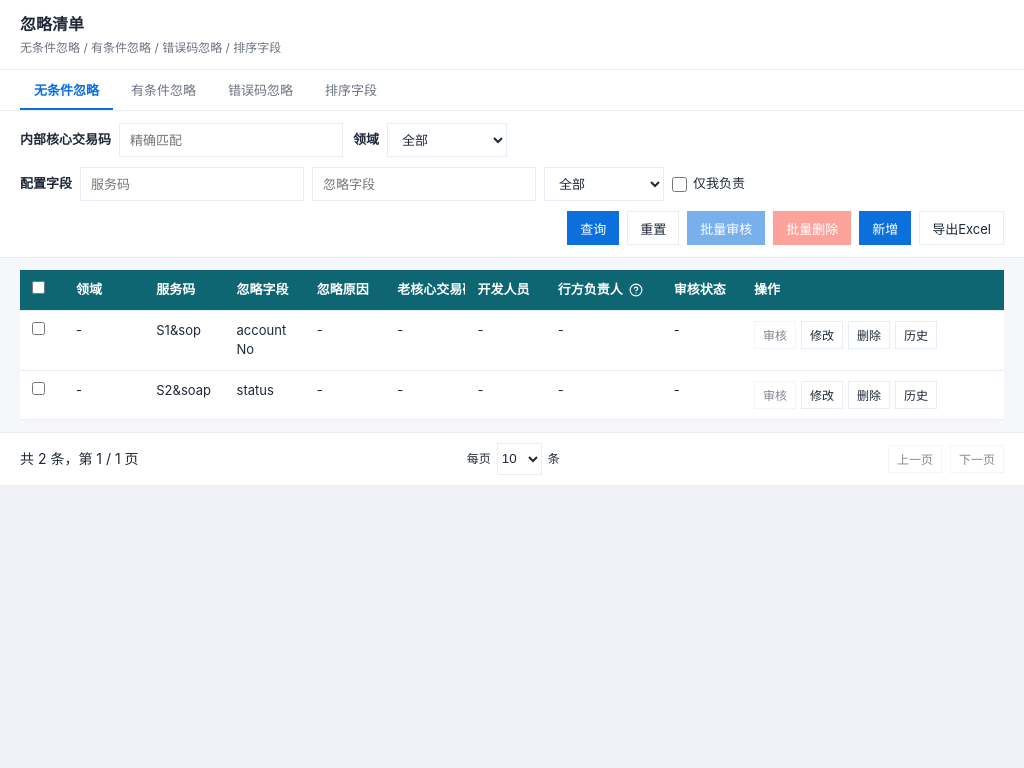
Test: ReplayConfigPage（忽略清单） › creates sort fields from the triple form and reports three rows
Click the tab with test id "tab-sort-fields": (351, 90) [311,70,391,110]
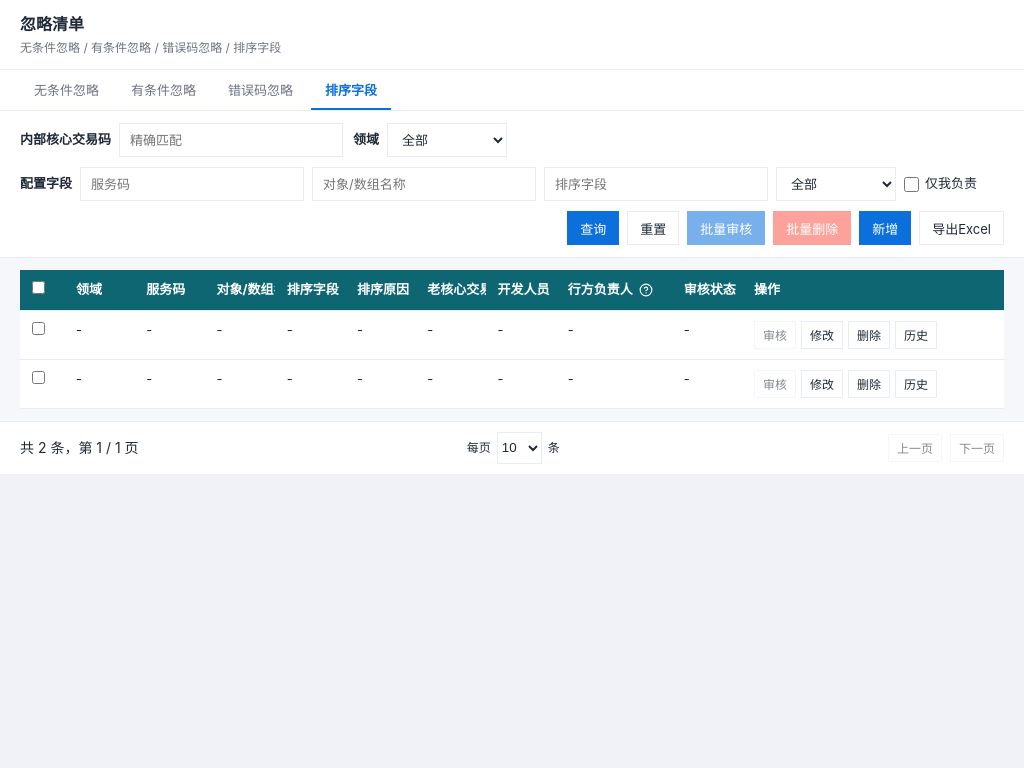
Click the button with test id "create-config": (885, 228) [859,211,911,245]
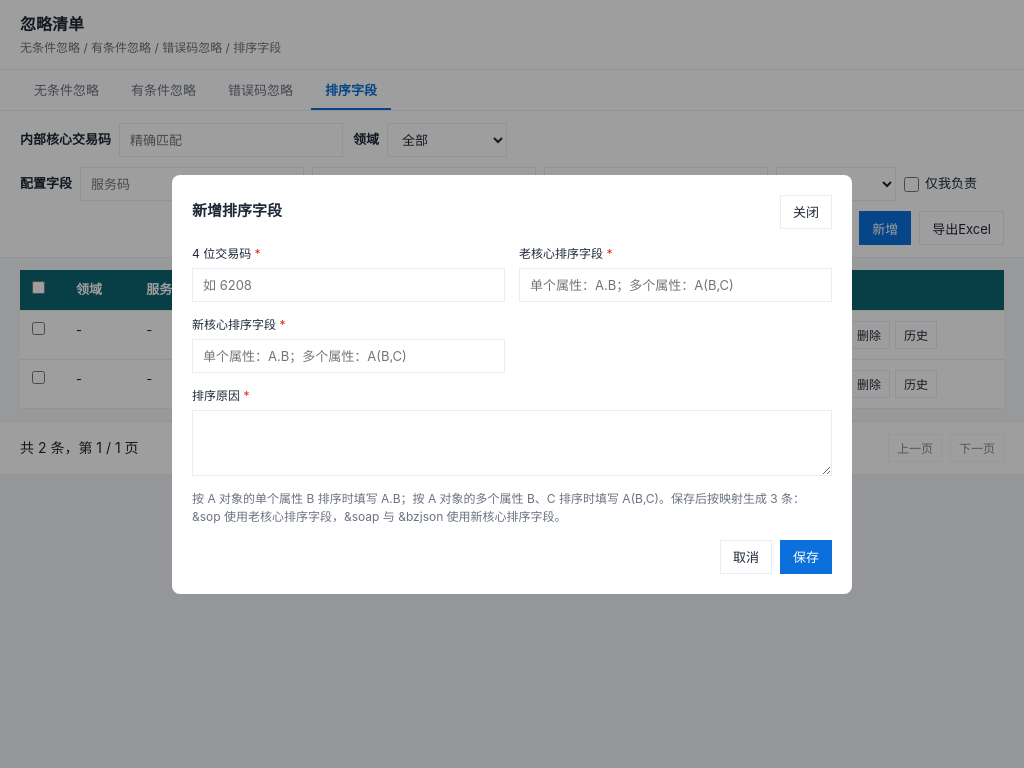
In the field with test id "form-tranCode": (348, 284) [192,268,505,302], type "6208"
In the field with test id "form-oldSortField": (676, 284) [519,268,832,302], type "accounts.accountNo"
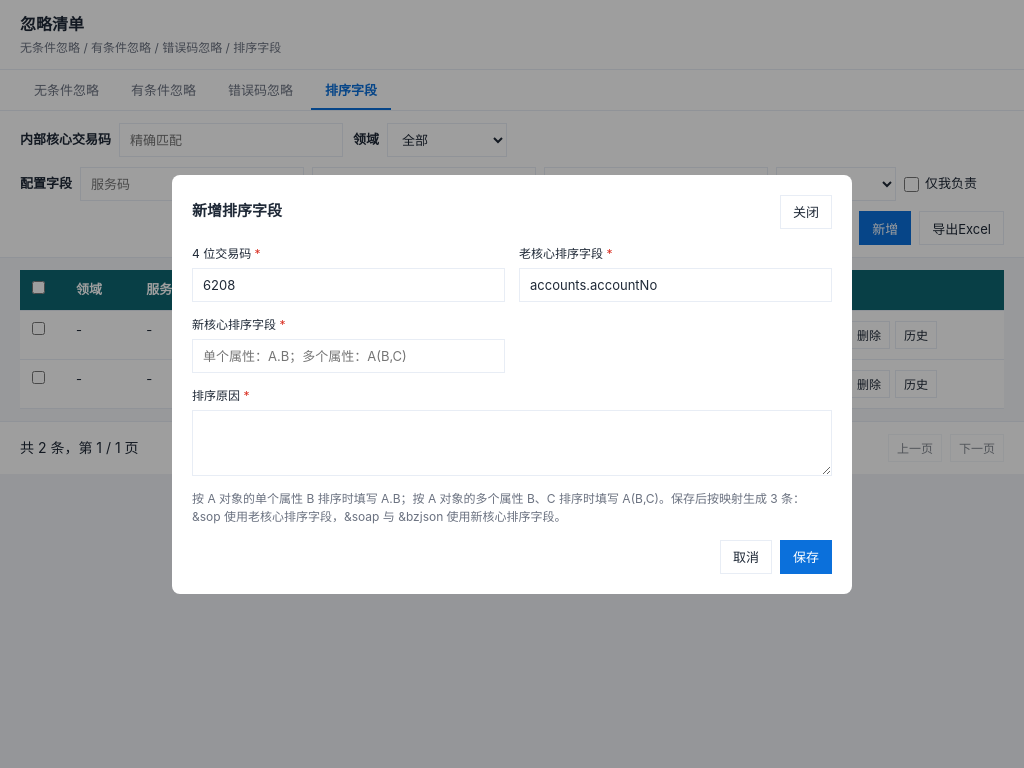
In the field with test id "form-newSortField": (348, 356) [192,338,505,372], type "loans(loanNo,loanType)"
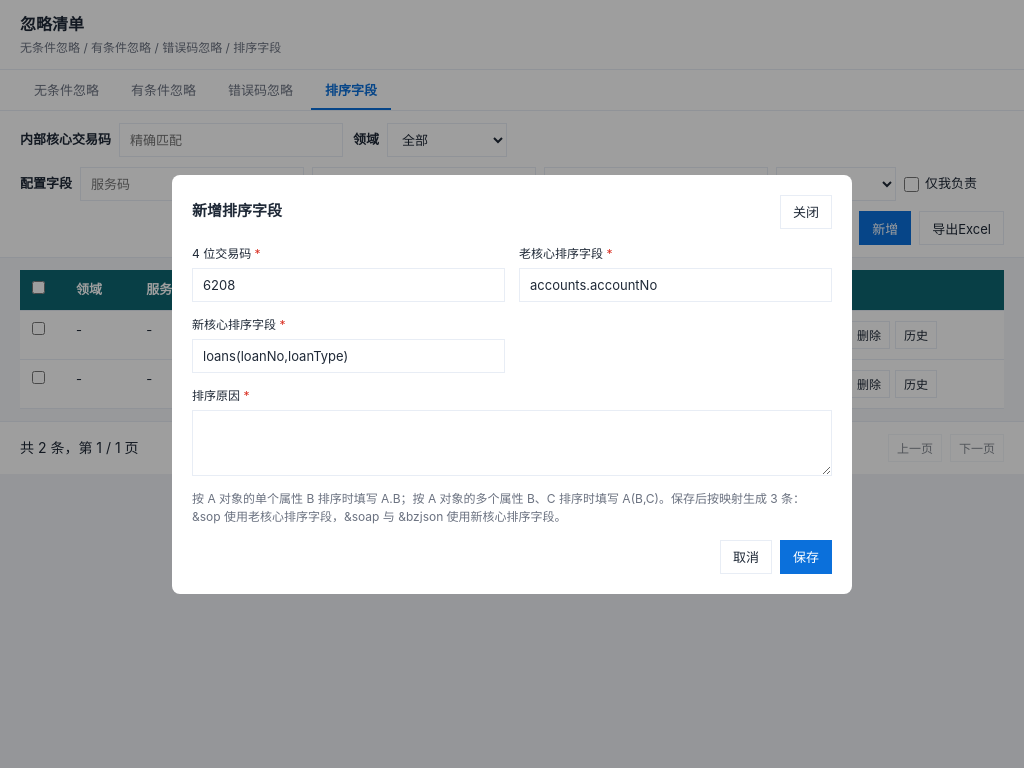
In the text box with test id "form-ignoreReason": (512, 442) [192,410,832,476], type "排序忽略原因"
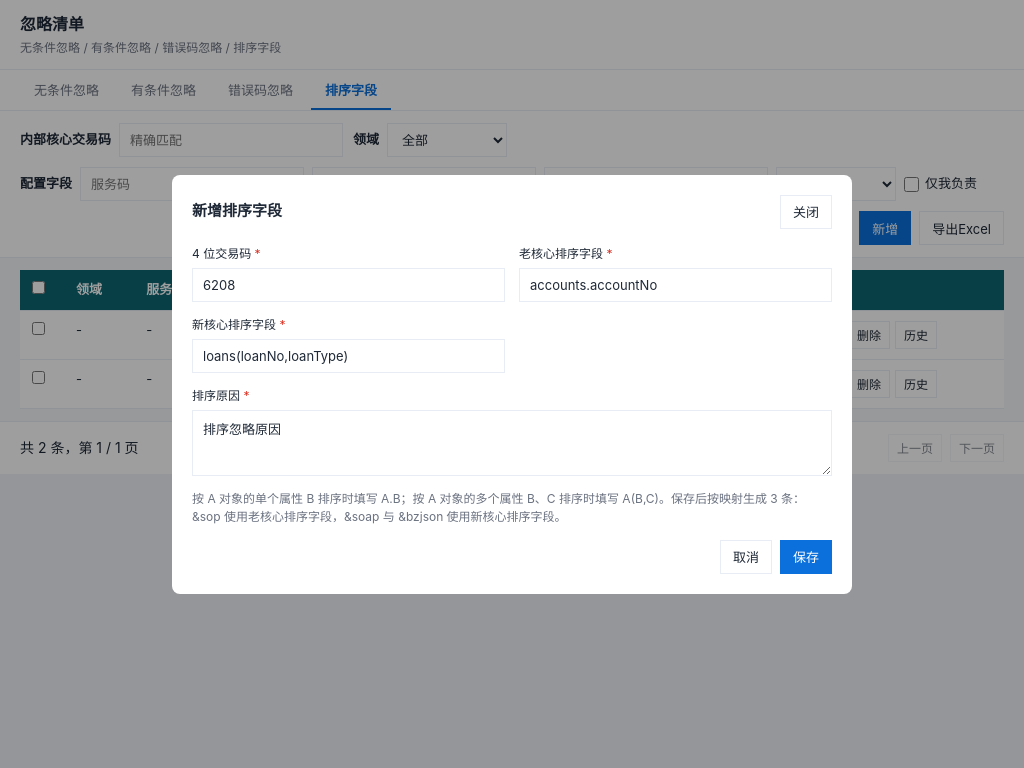
Submit the form with class "replay-edit-grid", box [192,244,832,574]
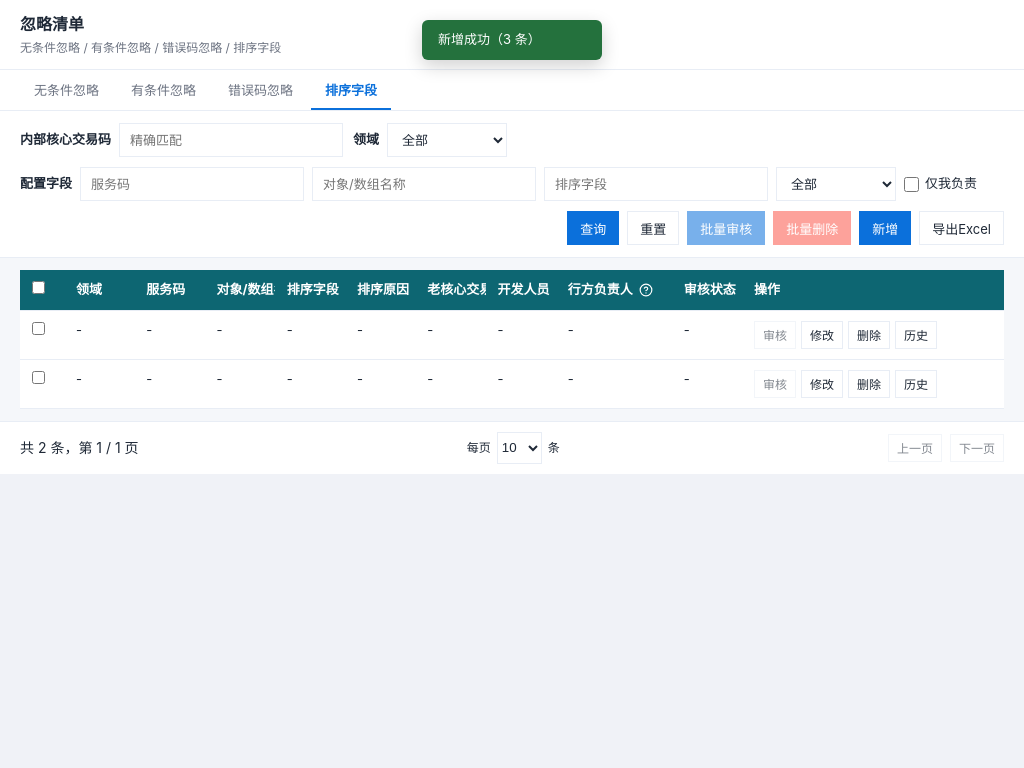
Expected: the message with test id "toast" reads "新增成功（3 条）", [438,31,541,47]
